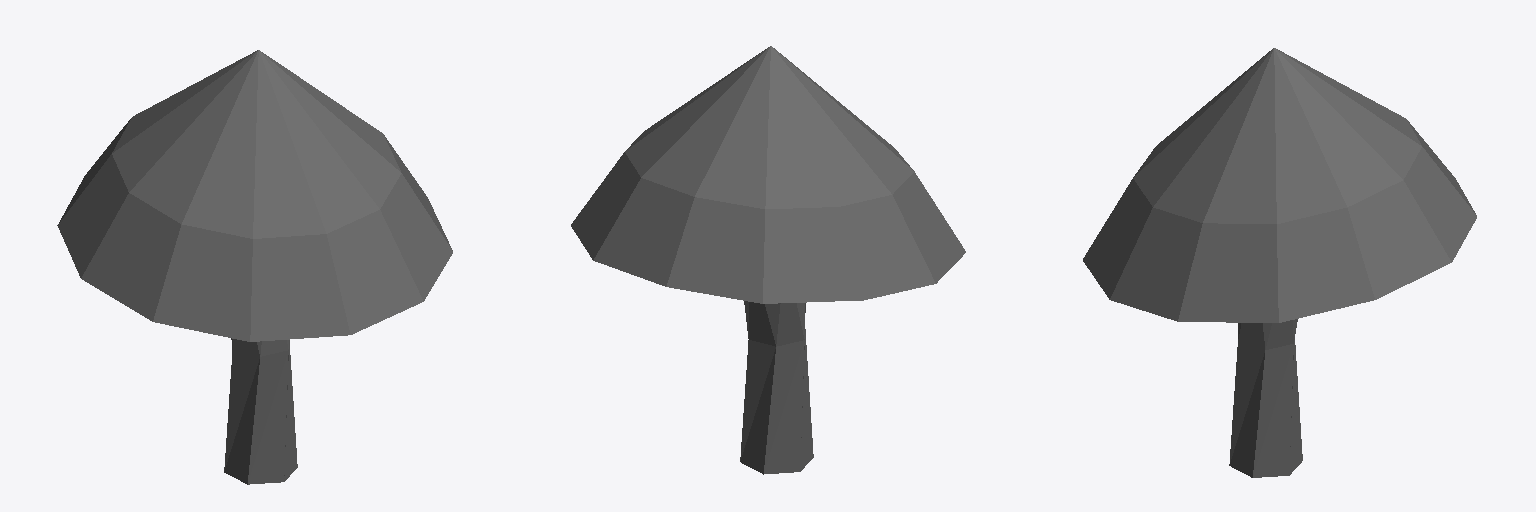
File: Mushroom_2.obj
3 renders of one model, left to right at view 1: azimuth 30°, elevation 25°; view 2: azimuth 150°, elevation 25°; view 3: azimuth 270°, elevation 25°, orthographic.
Visible parts, largest first — view 1: Cylinder010; view 2: Cylinder010; view 3: Cylinder010.
Boxes of the visible parts, box(x1,y1,x2,y2) form: Cylinder010: box(57, 50, 452, 484); Cylinder010: box(571, 46, 965, 474); Cylinder010: box(1083, 48, 1476, 477).
Size of the model in its own units: 0.5995 by 0.6958 by 0.598.